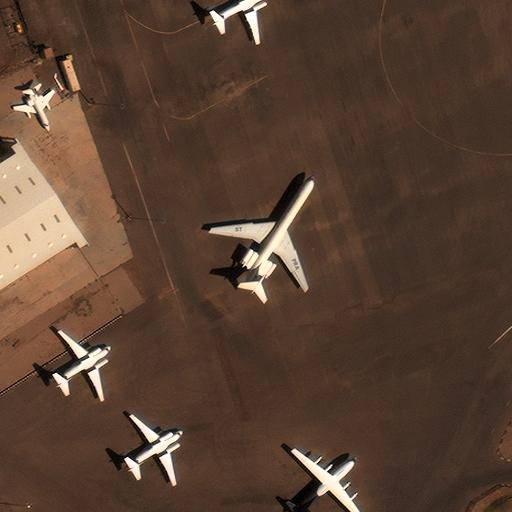Medium Civil Transport: (14, 87, 55, 131)
Military Transport: (211, 175, 314, 293), (294, 447, 364, 512), (127, 413, 183, 485), (56, 329, 111, 400), (211, 0, 268, 43)
